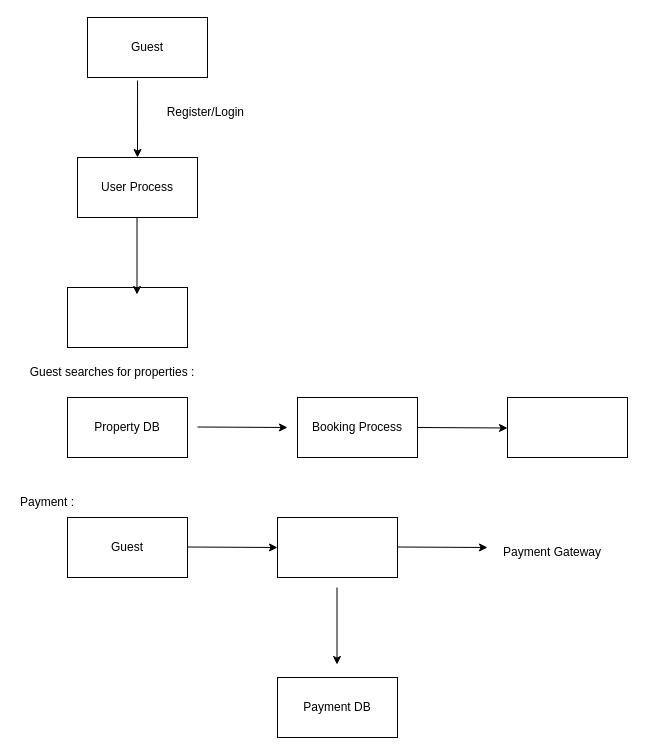
This 645x755 diagram has some shape labels left out. The box of each missing label's shape, as (x1, y1, x2, y2) in pixels:
Booking DB: (506, 396, 628, 458)
Payment Process: (276, 516, 398, 578)
User Db: (66, 286, 188, 348)
